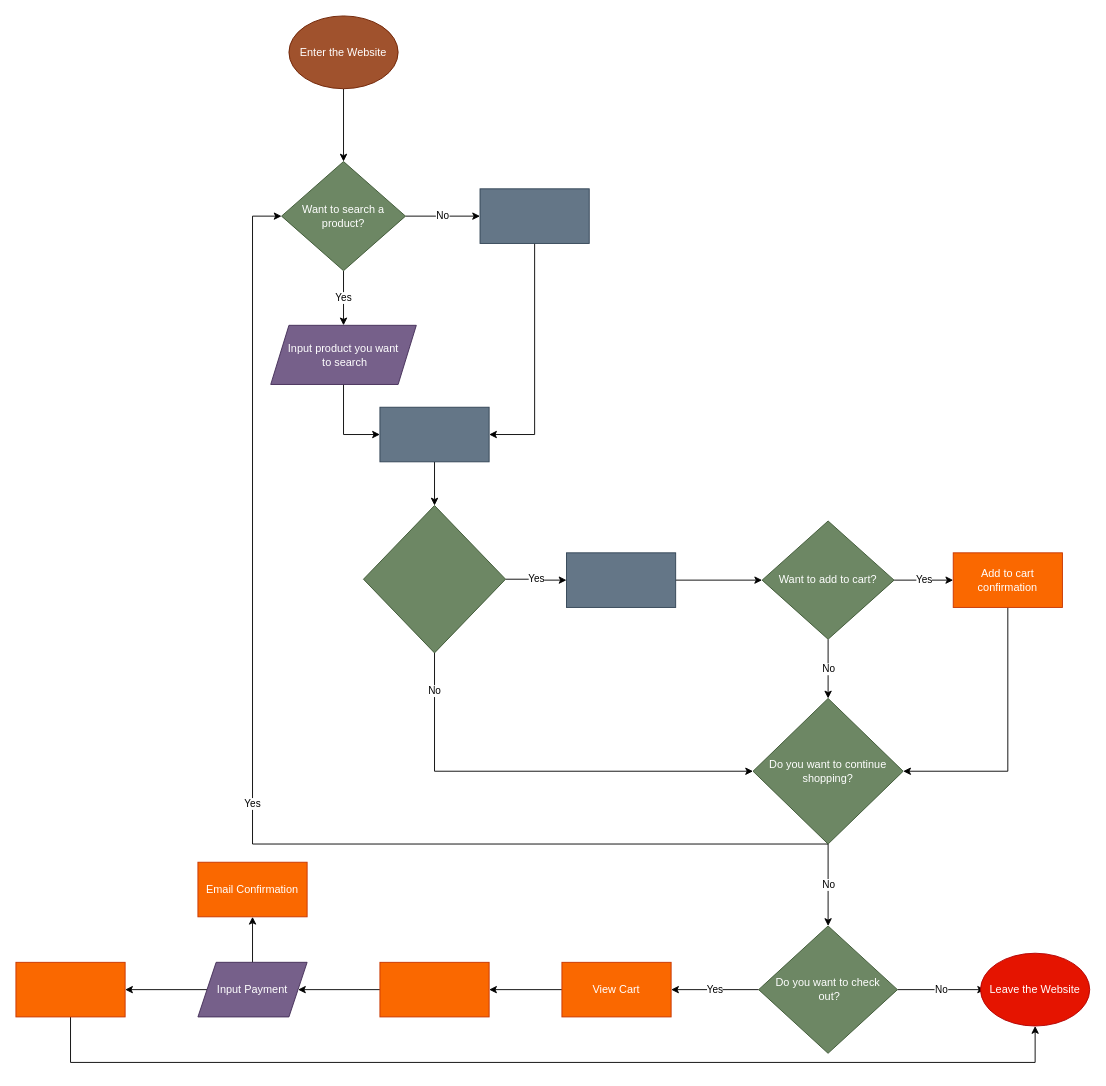
This 1106x1086 diagram has some shape labels left out. The centre of each missing label's shape, as x and y in pixels:
Exploring products: the point at 534,215
Order Confirmation: the point at 70,989
Product's webpage: the point at 621,579
Products: the point at 434,434
View Payment: the point at 434,989
Want to view a specific product?: the point at 434,579
